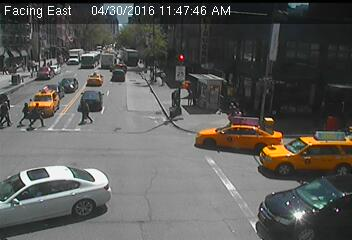neg: (133, 44, 157, 76), (164, 32, 187, 62), (162, 87, 181, 112), (138, 87, 155, 110), (120, 58, 133, 76)
pos: (74, 98, 95, 125), (13, 100, 33, 127), (30, 102, 50, 128)
